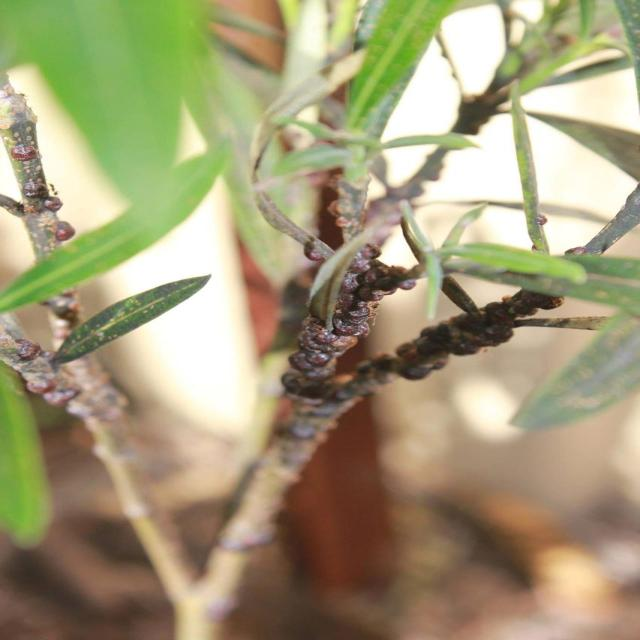Black Scale: (353, 290, 573, 397), (281, 246, 371, 416), (0, 313, 127, 432), (0, 135, 75, 251), (303, 175, 356, 262), (358, 259, 417, 302), (45, 291, 78, 349), (557, 246, 586, 256), (533, 212, 548, 230)
